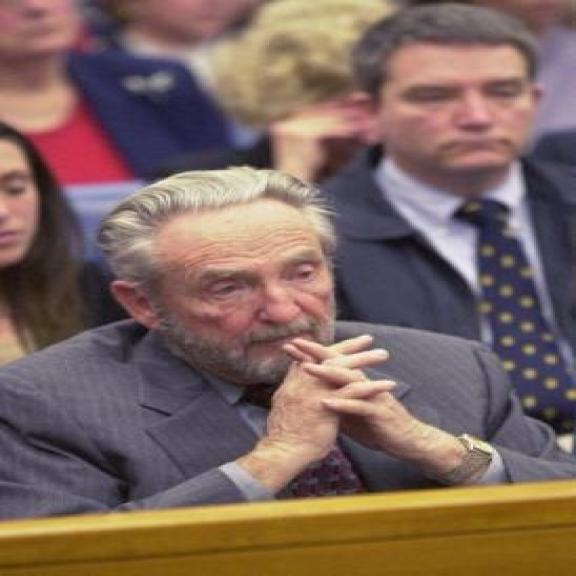face: (106, 207, 374, 389), (362, 40, 548, 178), (0, 139, 42, 274)
